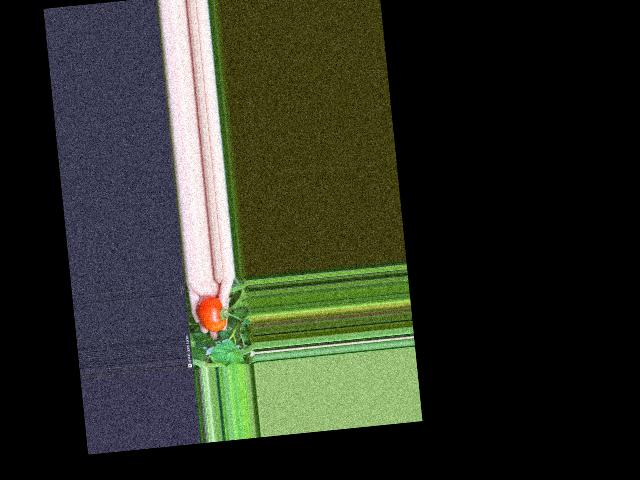tomato: (196, 294, 226, 332)
